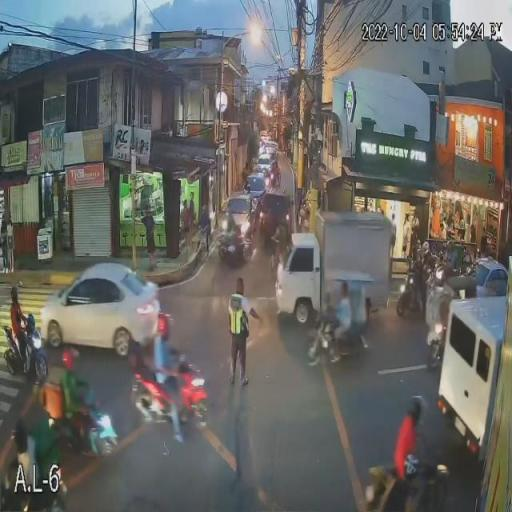helmet: (407, 394, 424, 416), (155, 313, 171, 334), (62, 349, 78, 369), (9, 286, 19, 302)
motorcycle: (35, 386, 120, 466), (128, 352, 211, 431), (362, 452, 453, 512), (306, 319, 366, 368), (4, 320, 49, 382), (424, 311, 446, 372), (218, 233, 245, 267)
rider: (50, 350, 102, 440), (150, 314, 186, 444), (390, 394, 425, 498), (326, 280, 357, 350), (424, 268, 450, 338), (8, 282, 33, 352), (220, 206, 245, 250)
